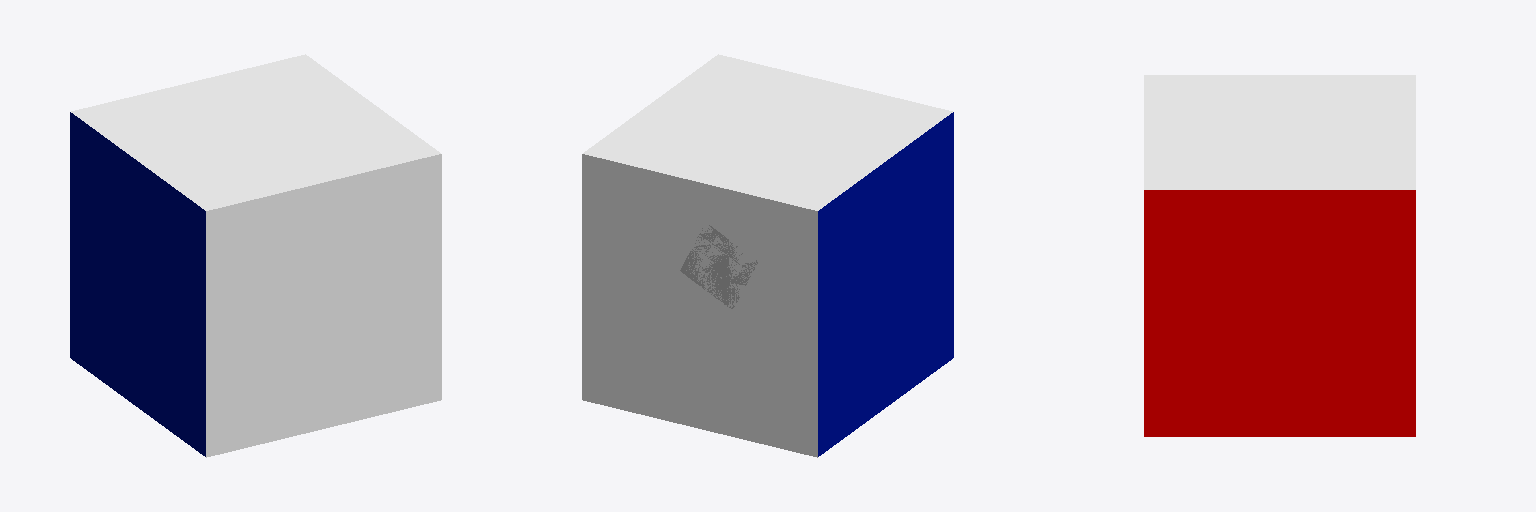
File: scene_subdivide_3.obj
3 views of the same model, side by side, from view 1: azimuth 30°, elevation 25°; view 2: azimuth 150°, elevation 25°; view 3: azimuth 270°, elevation 25° (orthographic).
Visible parts, largest first — view 1: Cube; view 2: Cube; view 3: Cube.
Part boxes in pixels (x1,y1,x2,y2): Cube: (70, 54, 441, 457); Cube: (582, 54, 953, 457); Cube: (1144, 75, 1415, 436).
Bounding box in the file's own units: 4 × 4 × 4.